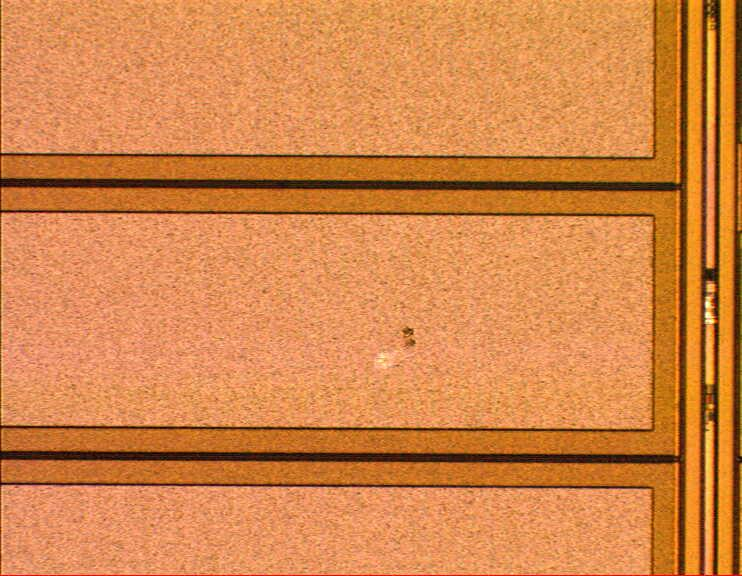SCRATCH: (355, 321, 436, 379)
